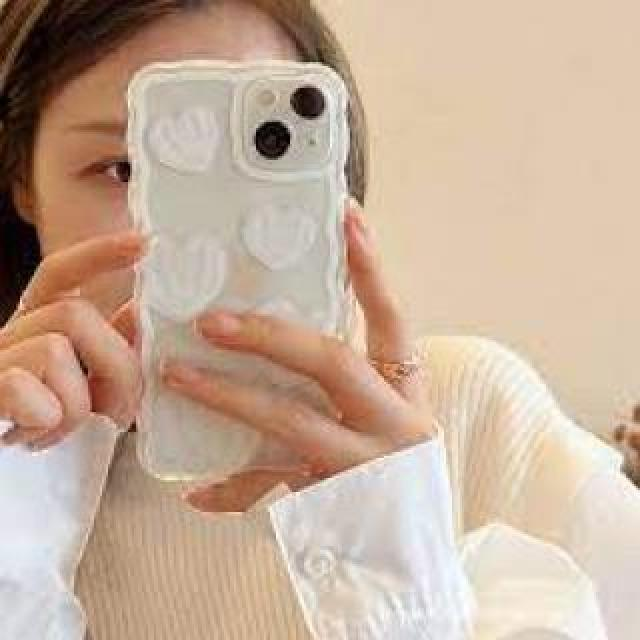smart phone: (130, 21, 382, 512)
